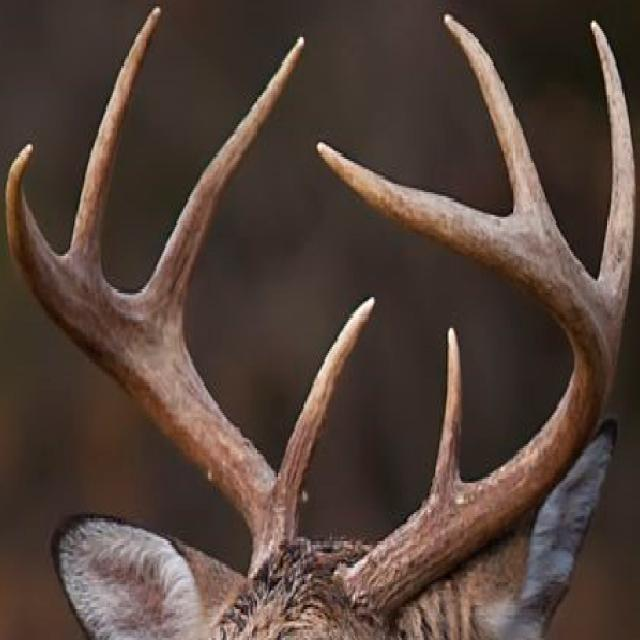L-F: (314, 139, 614, 628)
L-G1: (430, 325, 464, 490)
L-G2: (590, 15, 635, 329)
L-G3: (442, 9, 551, 222)
R-F: (5, 138, 299, 588)
R-G1: (277, 296, 378, 507)
R-G2: (145, 33, 306, 321)
R-G3: (67, 5, 164, 273)
